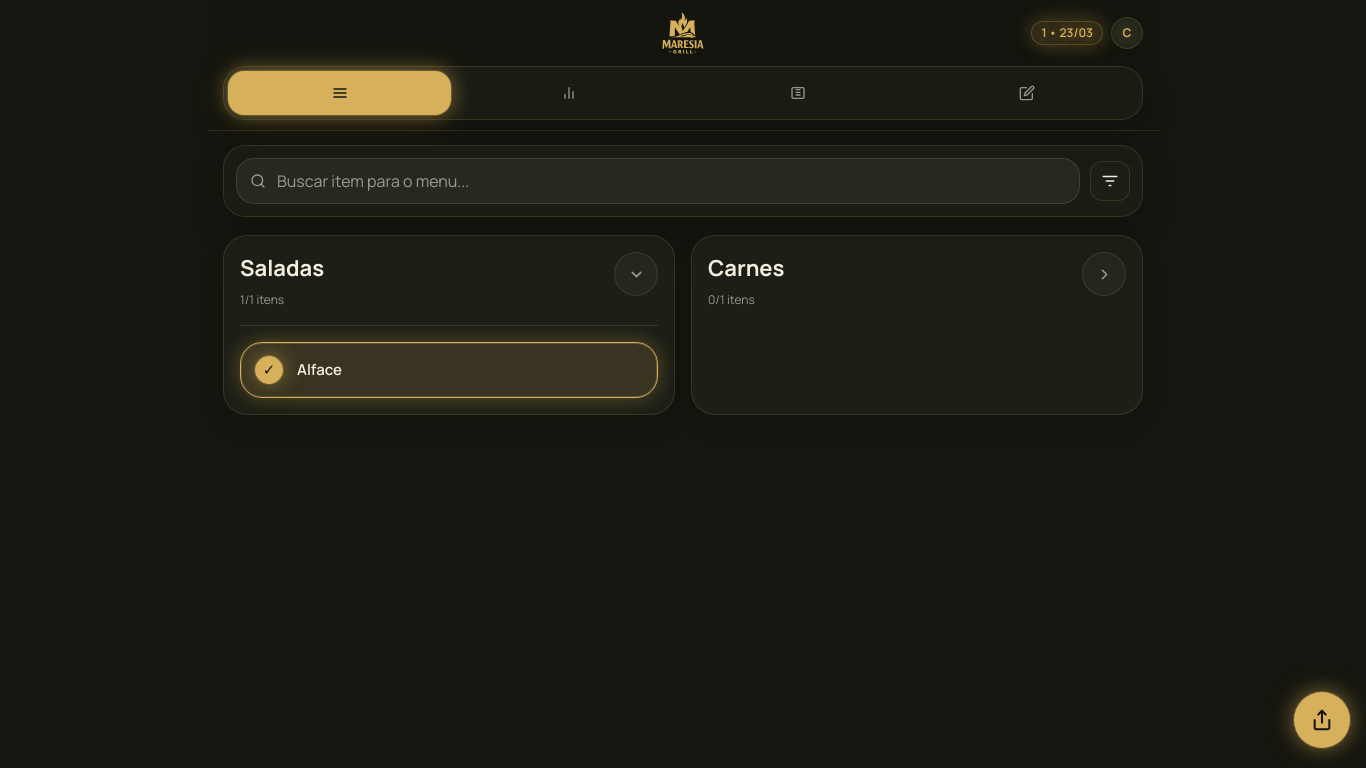
Scenario: App › uses the native share api when sharing menu text is available
Click the button named "Compartilhar menu" at (1322, 720), box left=1294, top=692, right=1350, bottom=748
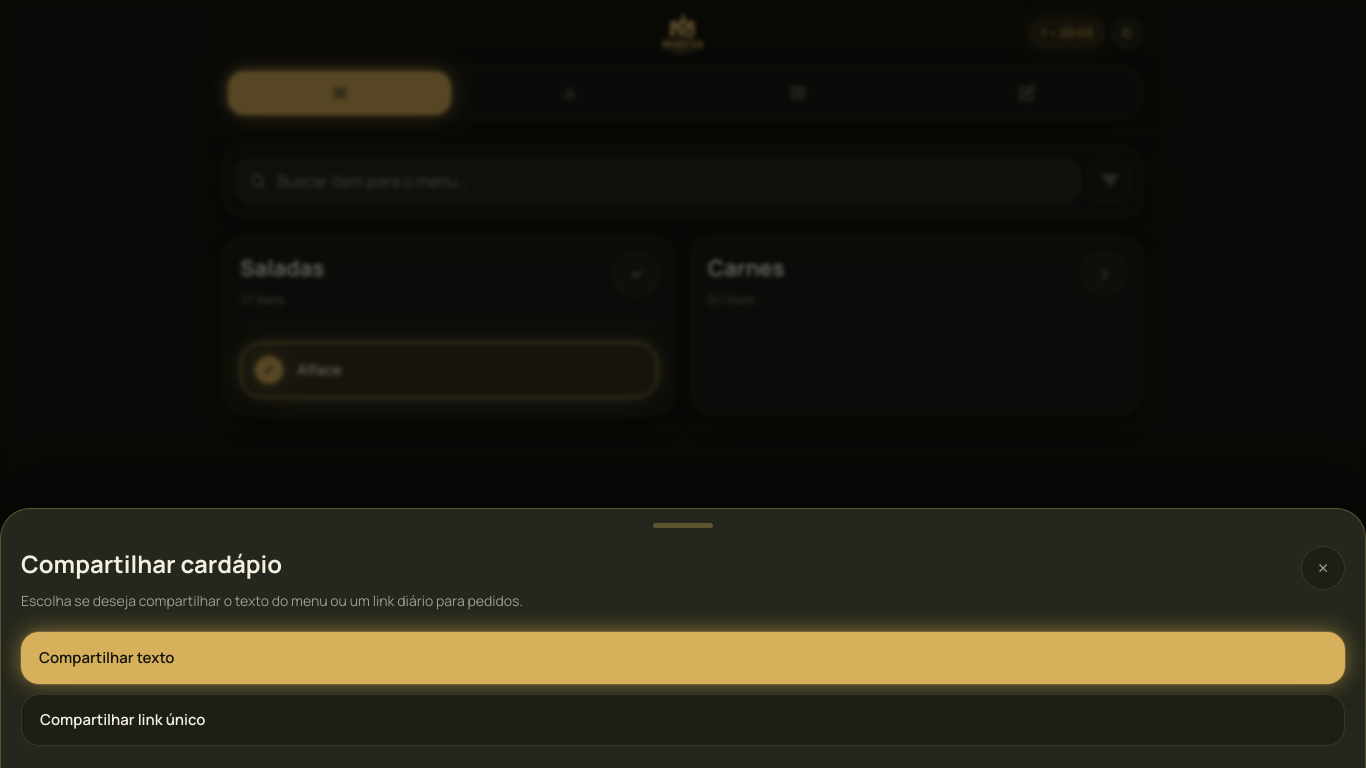
Click the button "Compartilhar texto" at (107, 657), box left=21, top=632, right=1345, bottom=684
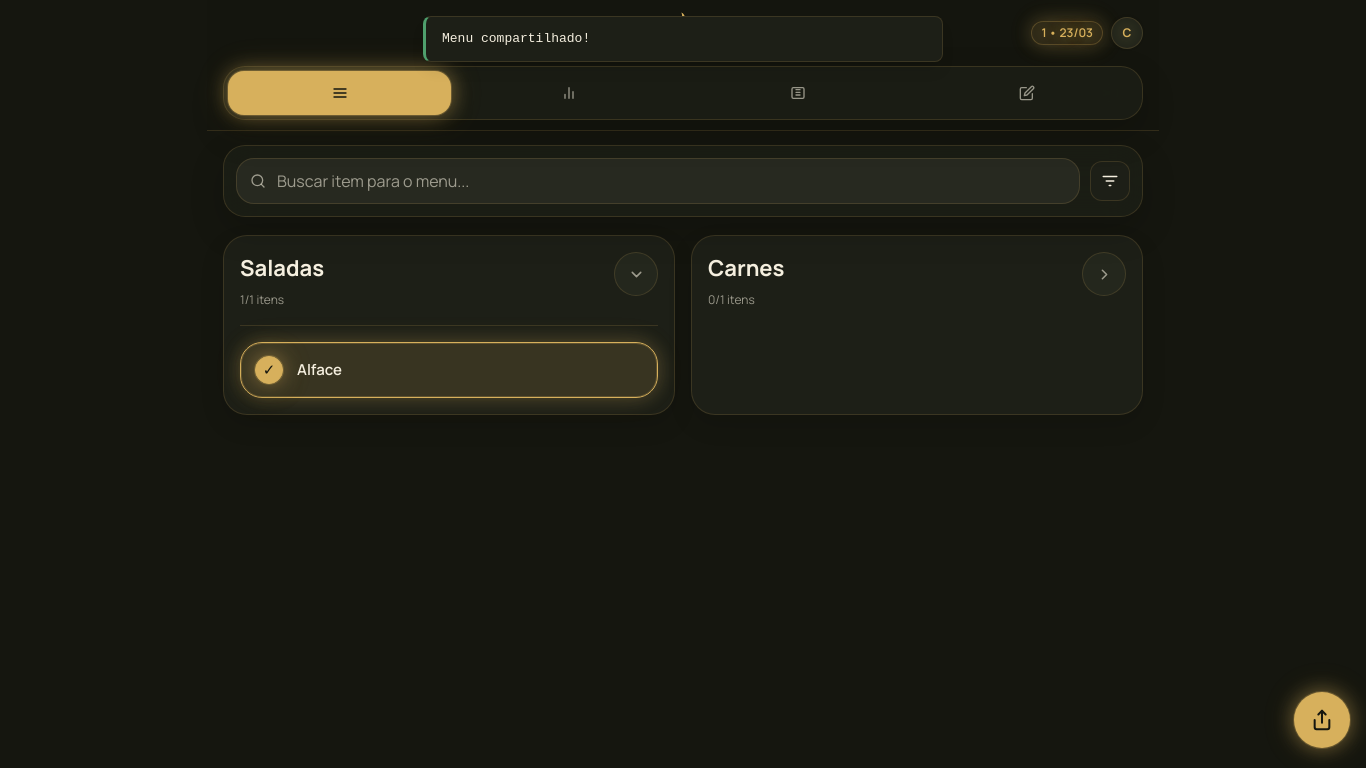
Check: the text "Menu compartilhado!" is shown, box left=442, top=31, right=590, bottom=46
